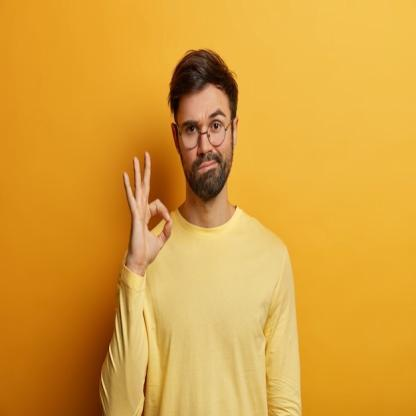ok: (122, 147, 176, 274)
